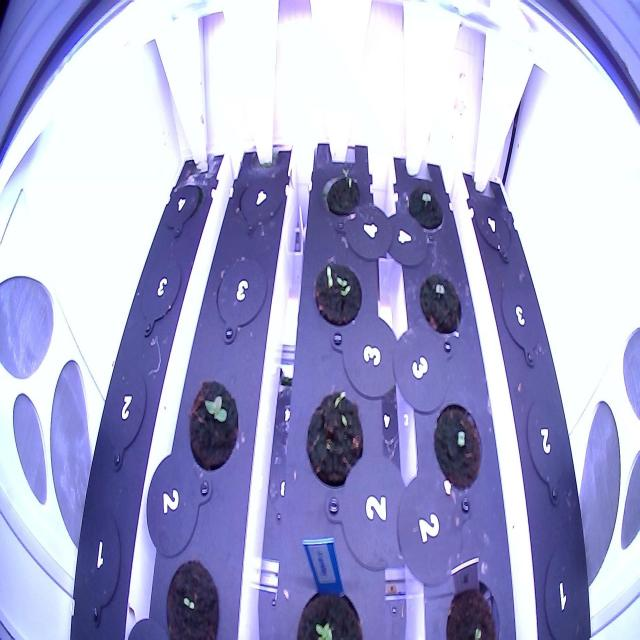empty_pod: (520, 389, 576, 511), (212, 247, 271, 353), (75, 503, 125, 619), (537, 537, 593, 639), (99, 366, 152, 473), (496, 270, 546, 370), (136, 246, 184, 340), (234, 167, 286, 240), (470, 195, 517, 263), (160, 172, 205, 241)
germination: (301, 380, 367, 492), (185, 374, 241, 477), (162, 552, 222, 639), (432, 397, 485, 491), (439, 569, 504, 638), (292, 584, 369, 638), (415, 263, 464, 339), (319, 163, 364, 227), (404, 182, 446, 239)
pod: (314, 254, 366, 332)
